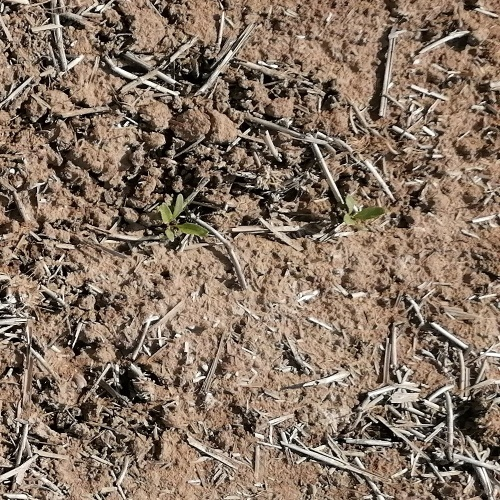beet: (157, 194, 212, 243), (343, 193, 384, 226)
